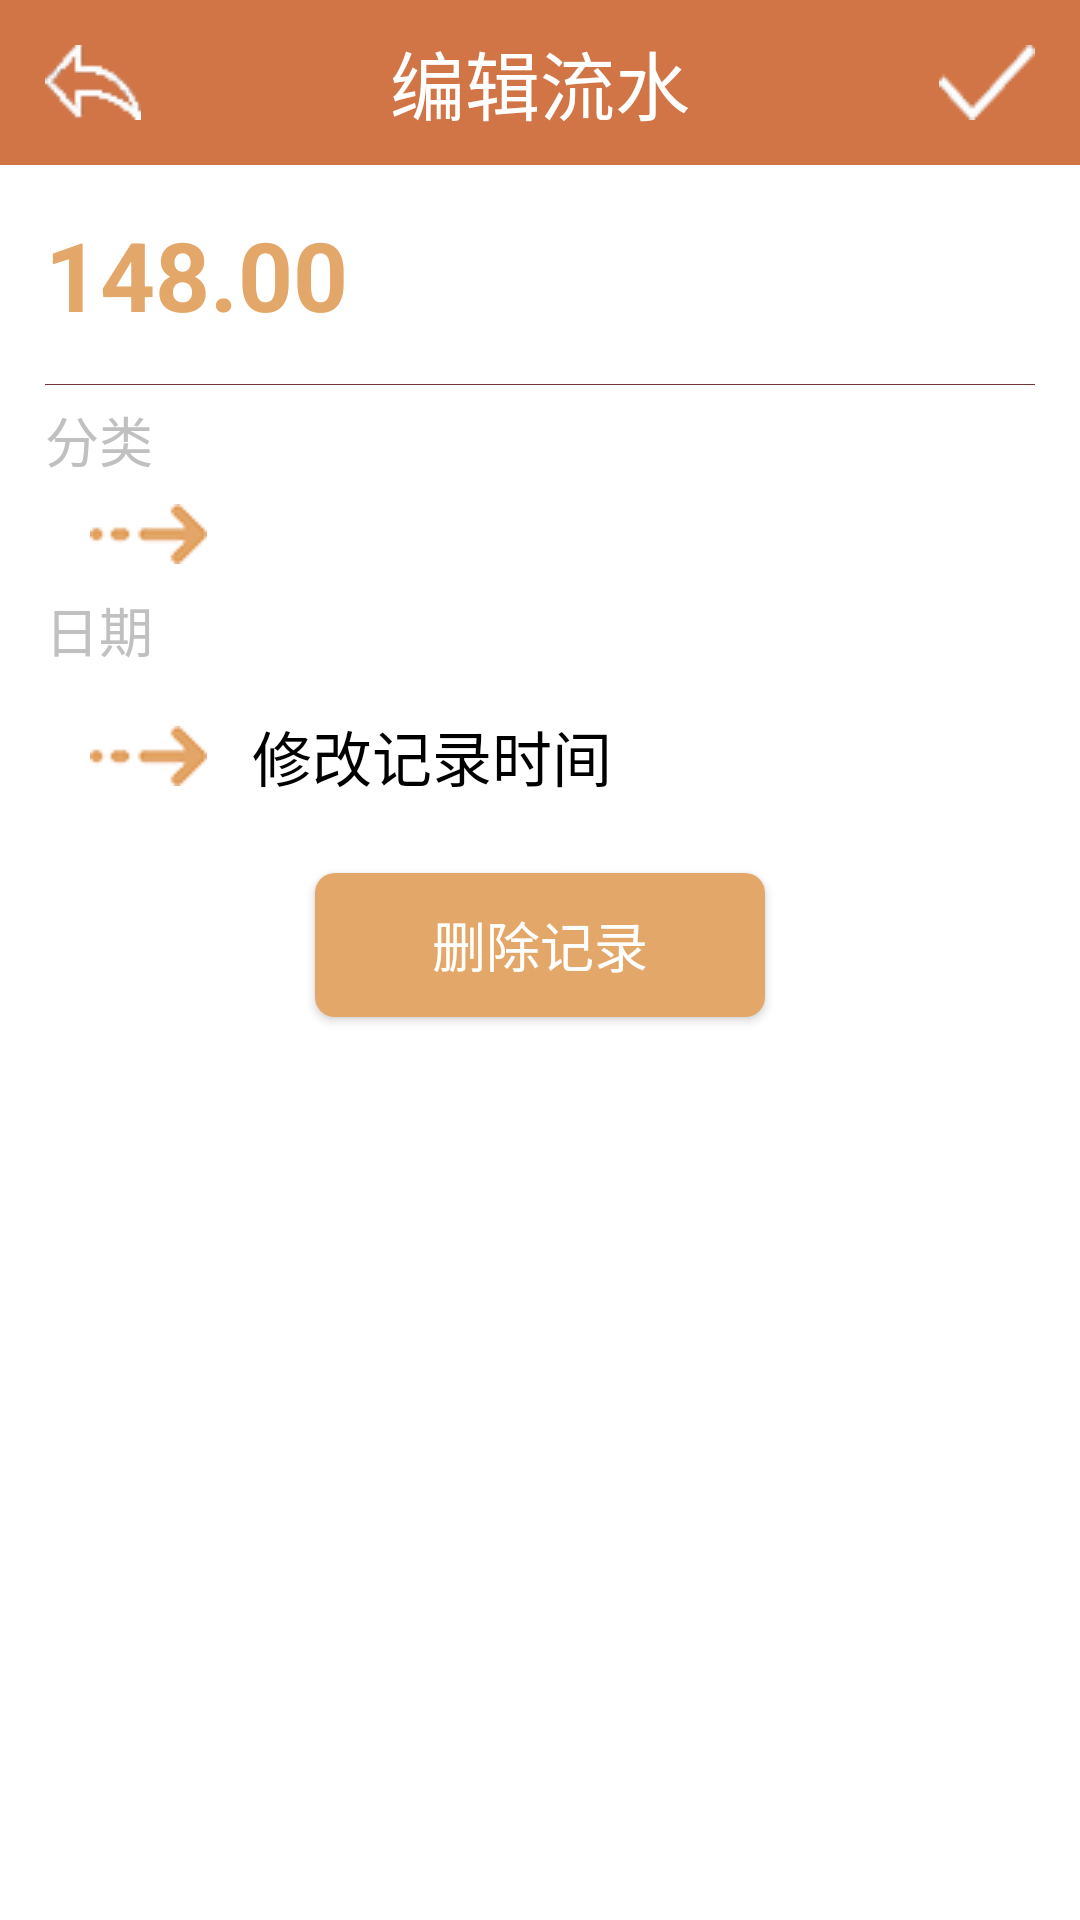

Locate icon controls on the screen. Image size 1080×1920, boxes as (x1, y1, x2, y2).
arrows: (90, 504, 207, 564), (90, 726, 207, 786)
top tab back: (45, 45, 141, 120)
top tab save: (939, 45, 1035, 120)
